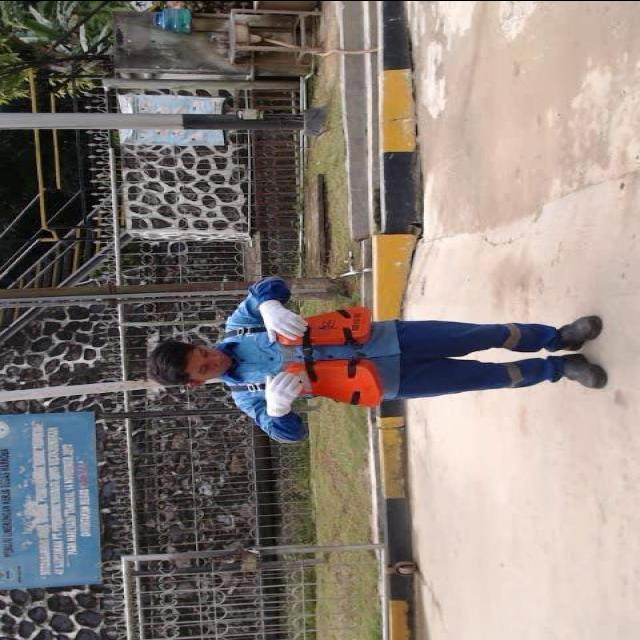jacket: (222, 296, 406, 421)
